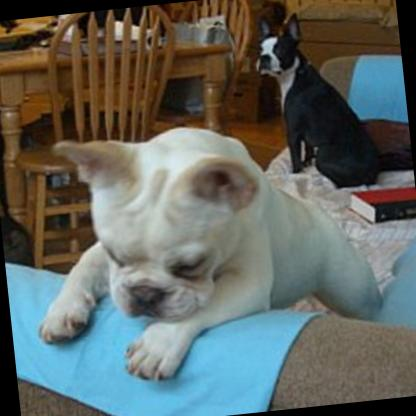French_bulldog: (15, 107, 389, 395), (248, 3, 379, 193)
